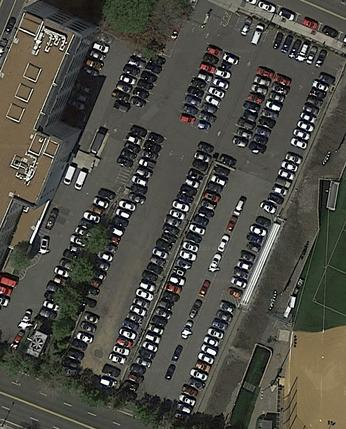parkingspot: (117, 153, 239, 402), (98, 140, 218, 390), (77, 130, 169, 308), (162, 197, 248, 382), (36, 186, 121, 324), (259, 71, 336, 216), (175, 299, 237, 415), (61, 30, 116, 130), (240, 0, 346, 44), (191, 49, 243, 134), (174, 41, 225, 127), (227, 64, 278, 149), (226, 215, 275, 299), (245, 72, 293, 156), (262, 25, 330, 70), (61, 310, 101, 376), (128, 55, 170, 111), (110, 50, 149, 104), (112, 122, 149, 173), (42, 182, 69, 229), (62, 164, 89, 192), (0, 275, 19, 308), (249, 19, 268, 46), (238, 16, 255, 38), (226, 11, 241, 32)
